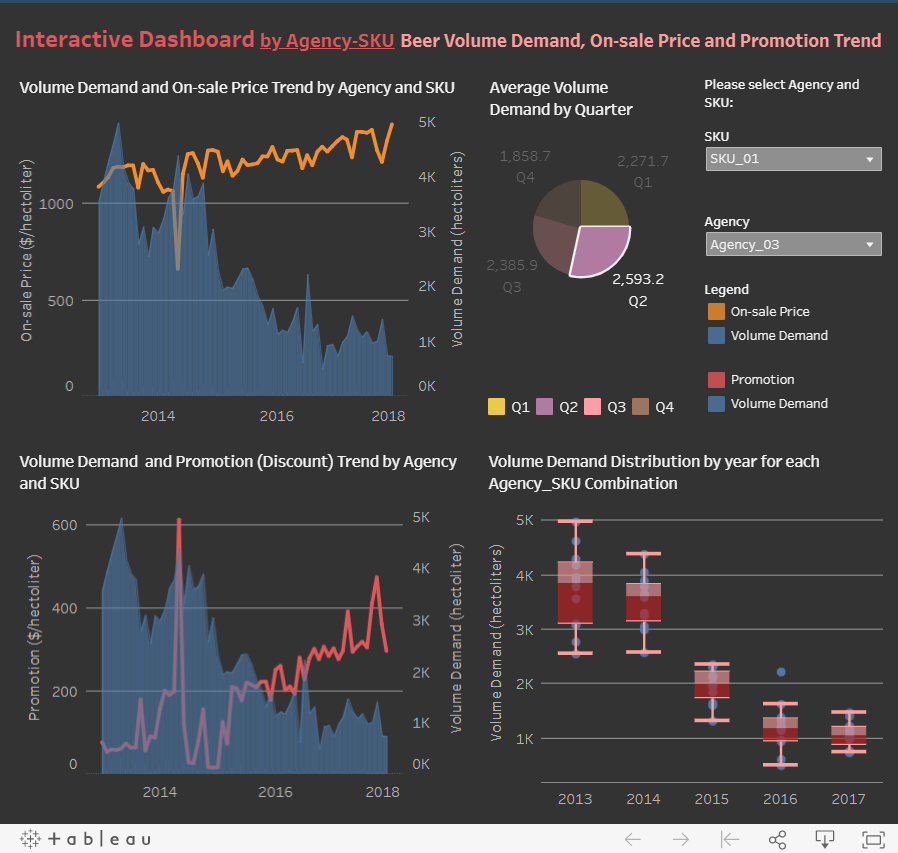

What the dashboard file says about the page in this screenshot:
{"tool":"tableau","page":{"name":"Interactive Dashboard ","canvas":[1000,1000],"units":"permille","ordinal":0},"visuals":[{"type":"text","box":[10.7,13.3,978.7,61.6]},{"type":"worksheet","title":"Volume_demand&Sales_trend","mark":"Automatic","rows":["Sales","Volume"],"cols":["time"],"box":[10.7,75,524,454]},{"type":"worksheet","title":"Average Volume Demand by Quarter","mark":"Pie","box":[534.7,75,245.3,397.1]},{"type":"text","box":[780,75,209.3,71.4]},{"type":"filter","title":"Volume_demand&Sales_trend","param":"[federated.1b0py2703ndvww10751gn133hibc].[none:SKU:nk]","box":[780,146.4,209.3,103.2]},{"type":"filter","title":"Volume_demand&Sales_trend","param":"[federated.1b0py2703ndvww10751gn133hibc].[none:Agency:nk]","box":[780,249.5,209.3,83.2]},{"type":"legend","title":"Volume_demand&Sales_trend","param":"[federated.1b0py2703ndvww10751gn133hibc].[:Measure Names]","box":[780,332.7,209.3,106.6]},{"type":"legend","title":"Sales_promotions_trend","param":"[federated.1b0py2703ndvww10751gn133hibc].[:Measure Names]","box":[780,439.3,209.3,89.9]},{"type":"legend","title":"Average Volume Demand by Quarter","param":"[federated.1b0py2703ndvww10751gn133hibc].[qr:time:ok]","box":[534.7,472.6,245.3,49.9]},{"type":"worksheet","title":"Sales_promotions_trend","mark":"Automatic","rows":["Promotions","Volume"],"cols":["time"],"box":[10.7,529.1,524,457.6]},{"type":"worksheet","title":"Volume_demand_distribution_by_year","mark":"Circle","rows":["Volume"],"cols":["time"],"box":[534.7,529.1,454.7,457.6]}]}

Visuals, with their boxes on the dashboard's canvas, which has no fixed pixel size, in thousandths of its width and height (x1, y1, x2, y2). These are canvas units, not pixel positions in the 898x853 screenshot, which may show the page scaled, cropped or inside an application window:
text: rect(11, 13, 989, 75)
"Volume_demand&Sales_trend" worksheet: rect(11, 75, 535, 529)
"Average Volume Demand by Quarter" worksheet (Pie marks): rect(535, 75, 780, 472)
text: rect(780, 75, 989, 146)
"Volume_demand&Sales_trend" filter: rect(780, 146, 989, 250)
"Volume_demand&Sales_trend" filter: rect(780, 250, 989, 333)
"Volume_demand&Sales_trend" legend: rect(780, 333, 989, 439)
"Sales_promotions_trend" legend: rect(780, 439, 989, 529)
"Average Volume Demand by Quarter" legend: rect(535, 473, 780, 522)
"Sales_promotions_trend" worksheet: rect(11, 529, 535, 987)
"Volume_demand_distribution_by_year" worksheet (Circle marks): rect(535, 529, 989, 987)
